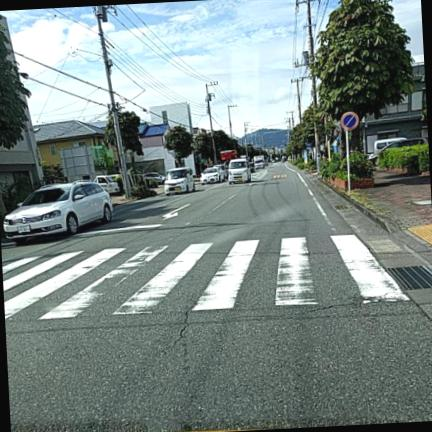Road: (1, 164, 431, 431)
